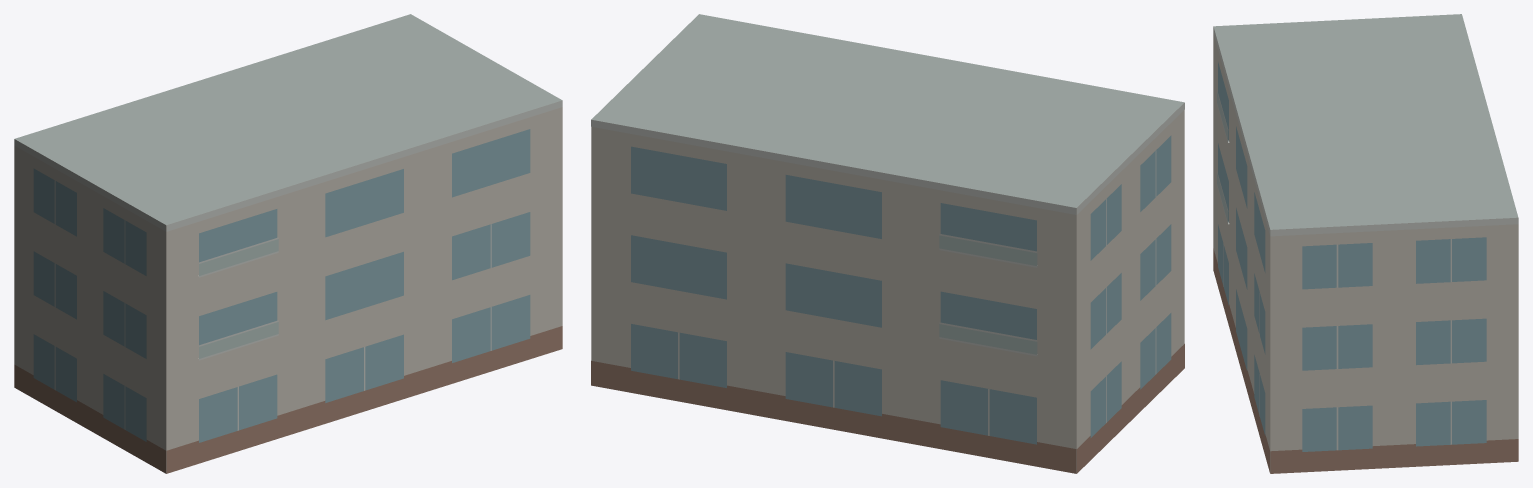
File: survey-upis-33013899.glb
The picture shows the model from 3 angles, left to right: view 1: azimuth 30°, elevation 25°; view 2: azimuth 150°, elevation 25°; view 3: azimuth 270°, elevation 25°; orthographic projection. The views are drawn at different scales.
Parts seen in each view (by area): view 1: survey-upis-33013899.tmp; view 2: survey-upis-33013899.tmp; view 3: survey-upis-33013899.tmp.
Boxes of the visible parts, x1,y1,x2,y2 form: survey-upis-33013899.tmp: [14, 14, 562, 473]; survey-upis-33013899.tmp: [591, 14, 1184, 473]; survey-upis-33013899.tmp: [1213, 14, 1518, 473].
Size of the model in its own units: 17.37 by 9.15 by 10.38.
